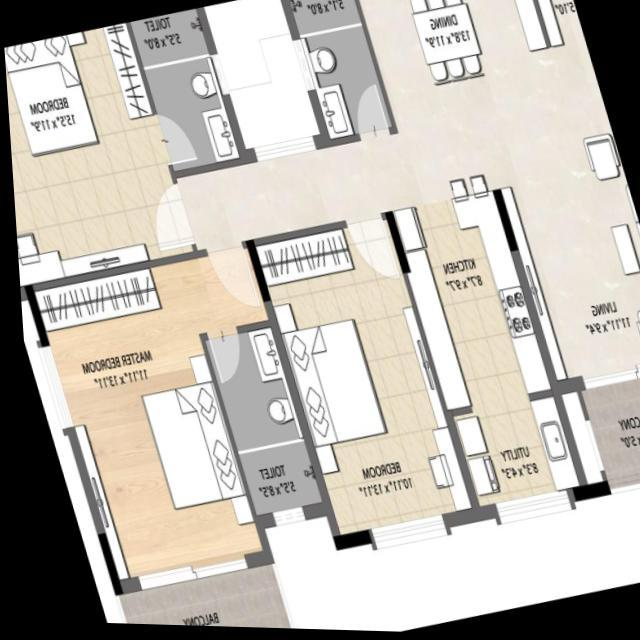Balcony-Sitout: (111, 565, 284, 631), (577, 377, 640, 480)
Bedroom: (252, 218, 466, 536)
Bedroom with Toilet: (28, 244, 320, 584), (3, 9, 242, 289)
Dining: (407, 0, 489, 90)
Enterance-Foyer: (539, 0, 594, 73)
Kitchen: (388, 191, 547, 410)
Living: (480, 94, 640, 380)
Toilet: (203, 328, 316, 516), (131, 10, 238, 172), (291, 0, 391, 139)
Utility: (449, 396, 574, 505)
